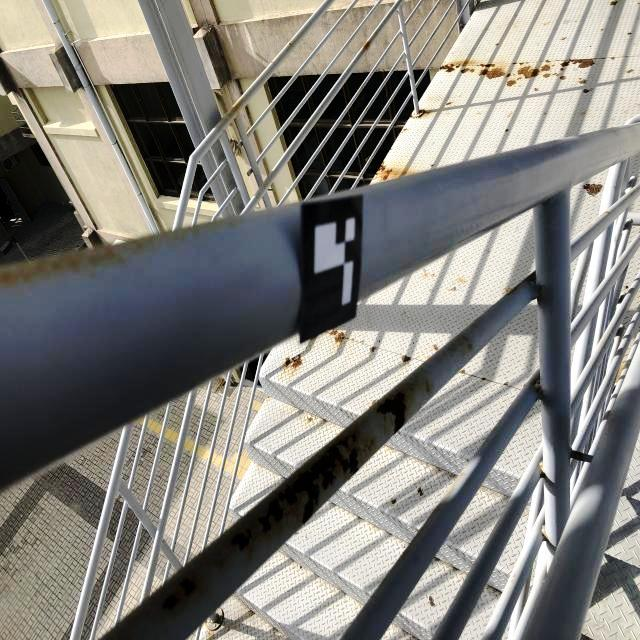Corrosion: (211, 427, 360, 550), (378, 392, 406, 434), (174, 576, 197, 596), (158, 593, 180, 613), (517, 65, 541, 79), (559, 59, 595, 68), (479, 68, 505, 79), (583, 183, 603, 197), (439, 64, 461, 73), (375, 161, 386, 175), (291, 354, 302, 368), (409, 110, 425, 118), (334, 332, 344, 342), (402, 354, 411, 363), (362, 41, 370, 51), (428, 596, 435, 607), (476, 64, 495, 68), (540, 64, 550, 71), (506, 80, 516, 86), (285, 357, 291, 367), (417, 487, 423, 496), (461, 68, 470, 74), (328, 330, 338, 335), (578, 79, 587, 84), (369, 346, 376, 352), (383, 174, 389, 181), (575, 451, 582, 457), (385, 169, 393, 174), (543, 73, 551, 78), (610, 1, 618, 6), (625, 69, 634, 73), (307, 416, 313, 422), (401, 128, 408, 133), (391, 499, 397, 504), (535, 387, 540, 393), (534, 381, 540, 386), (459, 369, 465, 374), (372, 399, 377, 405), (434, 344, 438, 351), (583, 89, 590, 93), (560, 76, 566, 80), (469, 69, 475, 73), (468, 344, 472, 350), (450, 287, 456, 291), (506, 73, 511, 77), (534, 88, 539, 92), (539, 464, 543, 469), (446, 101, 451, 105), (516, 77, 522, 80), (545, 60, 551, 63), (627, 32, 632, 35), (561, 37, 566, 40), (503, 382, 508, 385), (495, 43, 499, 46), (560, 68, 564, 71), (605, 211, 609, 214), (519, 63, 524, 65), (552, 73, 557, 75), (481, 378, 486, 380), (600, 28, 603, 31), (637, 2, 640, 5), (523, 384, 526, 387), (505, 129, 508, 132), (525, 62, 529, 64), (578, 78, 582, 80), (611, 57, 615, 59), (552, 65, 555, 67), (556, 74, 559, 76), (512, 63, 517, 64), (433, 274, 435, 276), (469, 374, 471, 376), (267, 396, 269, 398), (362, 340, 364, 342), (352, 339, 354, 341), (379, 340, 380, 343), (413, 341, 414, 344), (512, 74, 515, 75), (625, 56, 628, 57), (390, 148, 391, 150), (425, 275, 426, 276)
